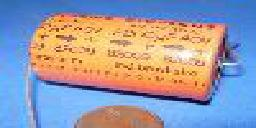Electrolytic-Capacitor: (28, 8, 242, 103)
